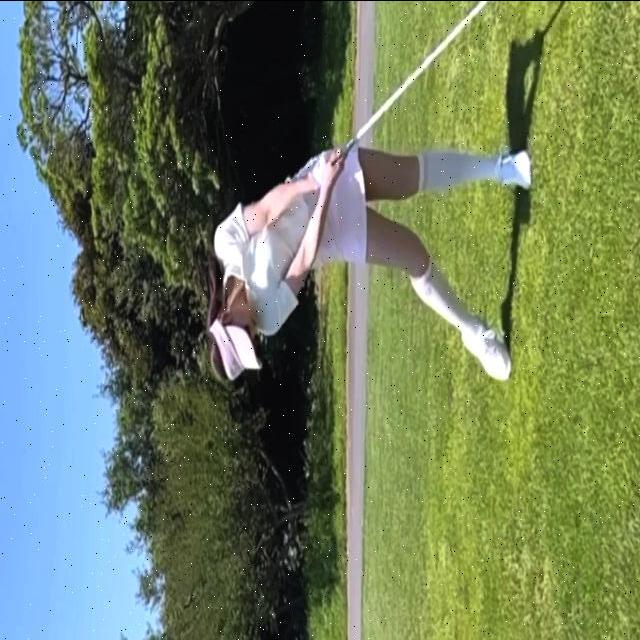golf club-handle: (337, 1, 486, 163)
